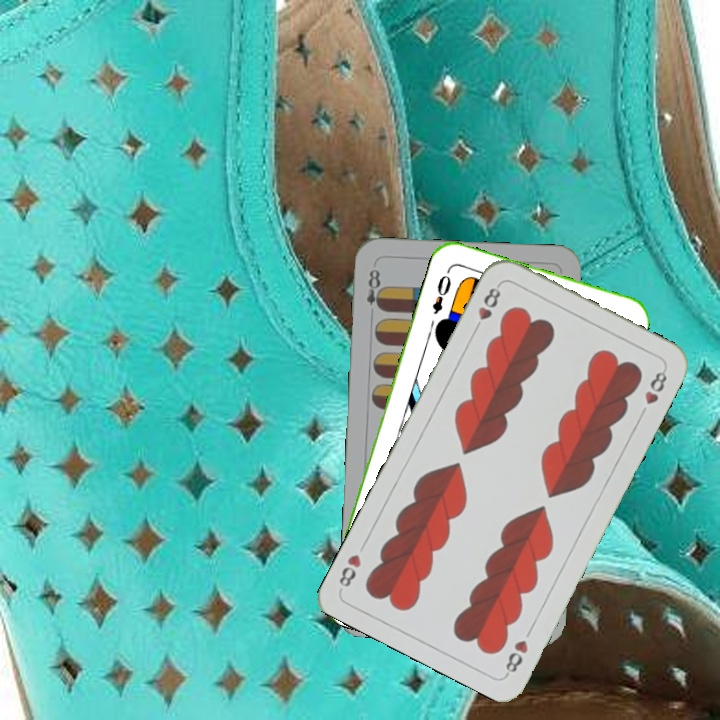E8: (362, 265, 386, 313)
EO: (428, 265, 454, 317)
H8: (469, 280, 504, 335), (501, 635, 531, 678)
